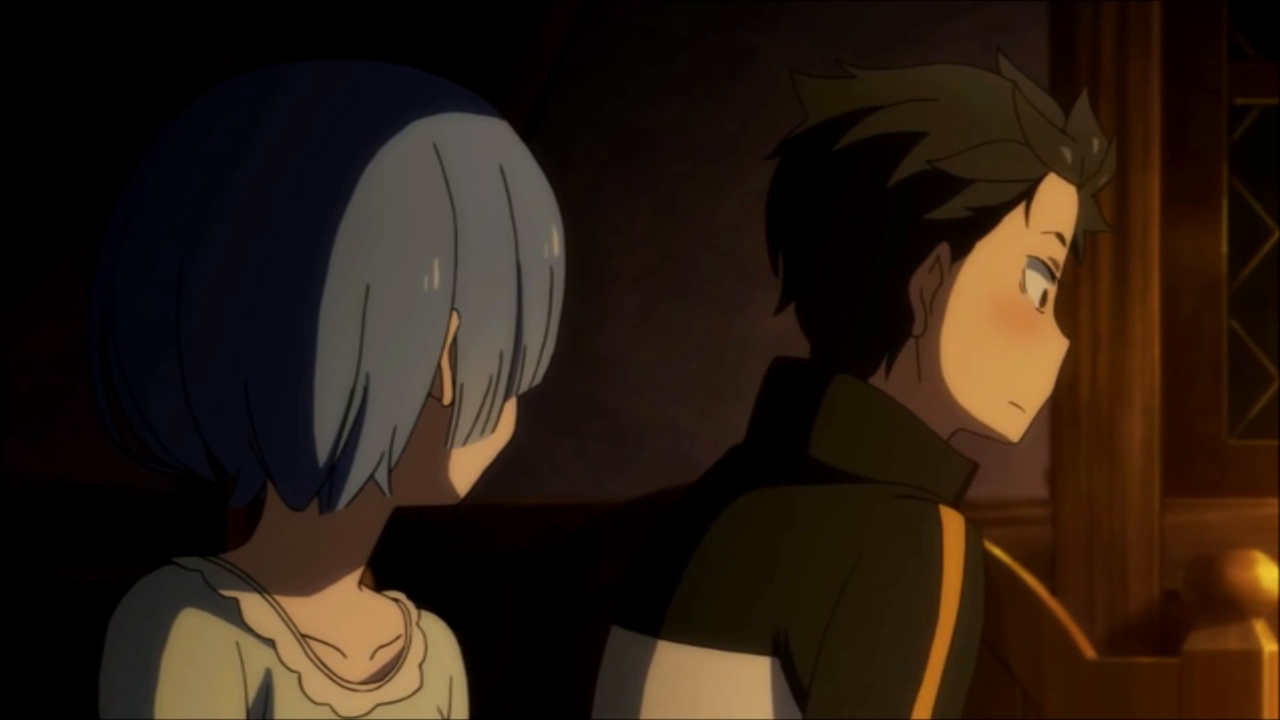REM: (137, 83, 583, 518)
